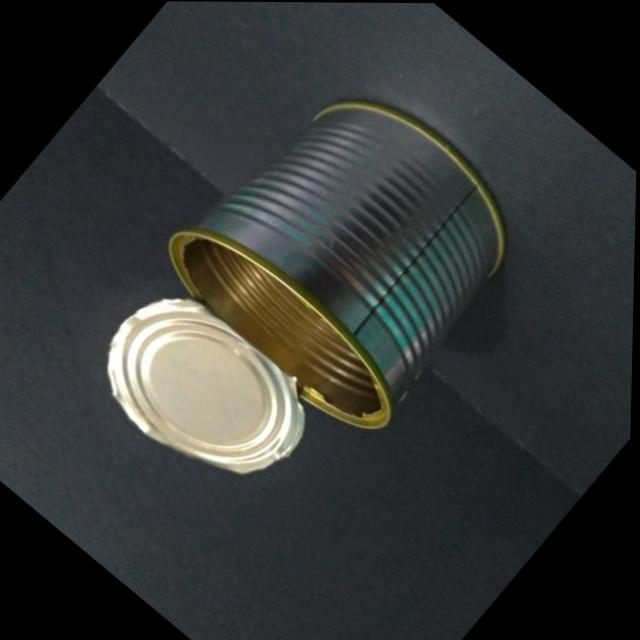metal: (63, 51, 547, 530)
